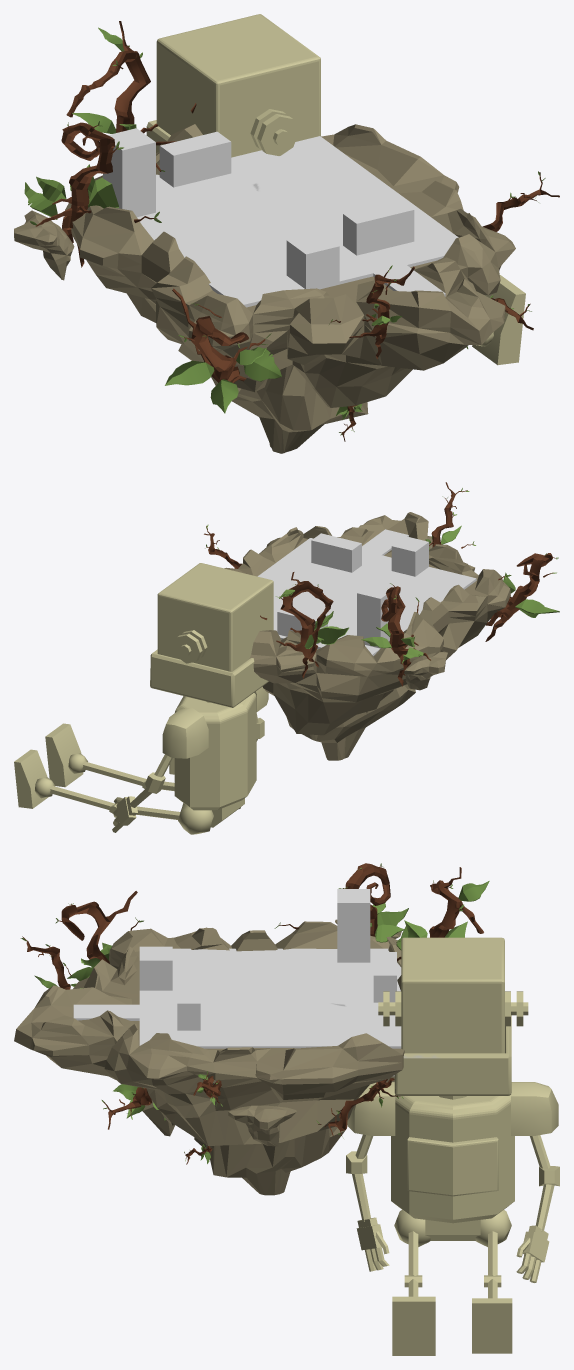
Rendered from Plant scene-platform 1.FBX.
3 views of the same model, one above another, from view 1: azimuth 30°, elevation 25°; view 2: azimuth 150°, elevation 25°; view 3: azimuth 270°, elevation 25° (orthographic). The views are drawn at different scales.
Visible parts, largest first — view 1: polySurface58, pasted__FFloor, polySurface57, polySurface316, polySurface313, polySurface59; view 2: polySurface57, polySurface58, pasted__FFloor, polySurface316, polySurface313, polySurface59; view 3: polySurface57, polySurface58, pasted__FFloor, polySurface316, polySurface313, polySurface60.
Part boxes in pixels (x1=…): polySurface58: x1=65, y1=124, x2=515, y2=453; pasted__FFloor: x1=103, y1=128, x2=458, y2=307; polySurface57: x1=146, y1=14, x2=525, y2=365; polySurface316: x1=35, y1=21, x2=559, y2=441; polySurface313: x1=24, y1=27, x2=545, y2=435; polySurface59: x1=14, y1=210, x2=74, y2=280; polySurface57: x1=14, y1=563, x2=273, y2=834; polySurface58: x1=224, y1=512, x2=510, y2=760; pasted__FFloor: x1=257, y1=529, x2=476, y2=655; polySurface316: x1=204, y1=482, x2=556, y2=686; polySurface313: x1=205, y1=488, x2=559, y2=663; polySurface59: x1=404, y1=651, x2=447, y2=690; polySurface57: x1=346, y1=937, x2=559, y2=1355; polySurface58: x1=14, y1=921, x2=404, y2=1195; pasted__FFloor: x1=73, y1=889, x2=401, y2=1076; polySurface316: x1=22, y1=863, x2=483, y2=1164; polySurface313: x1=20, y1=863, x2=489, y2=1163; polySurface60: x1=228, y1=1105, x2=296, y2=1146.
Size of the model in its own units: 15.83 by 11.53 by 16.56.
